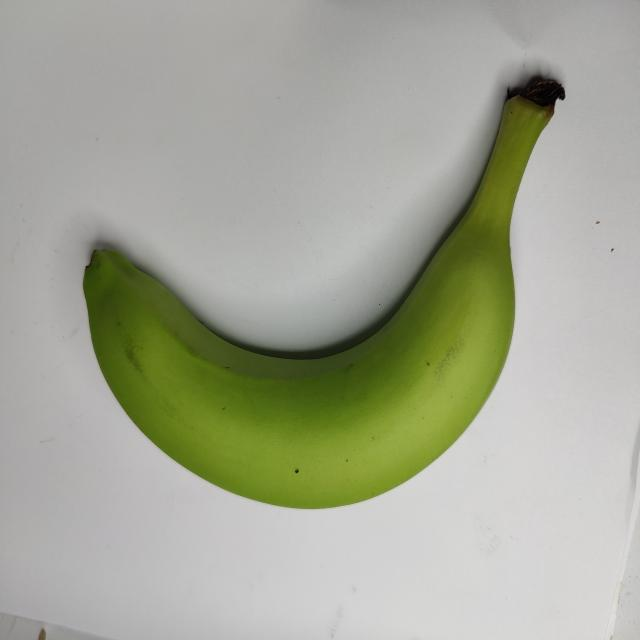raw: (67, 42, 581, 543)
